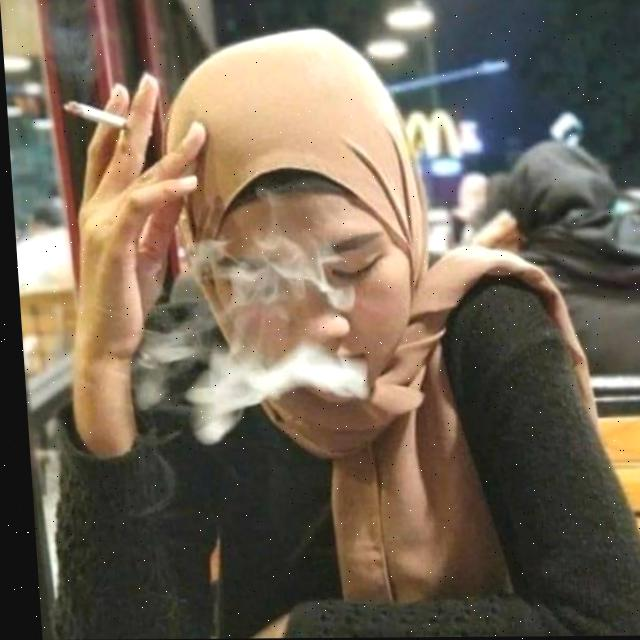cigarette: (60, 100, 126, 129)
